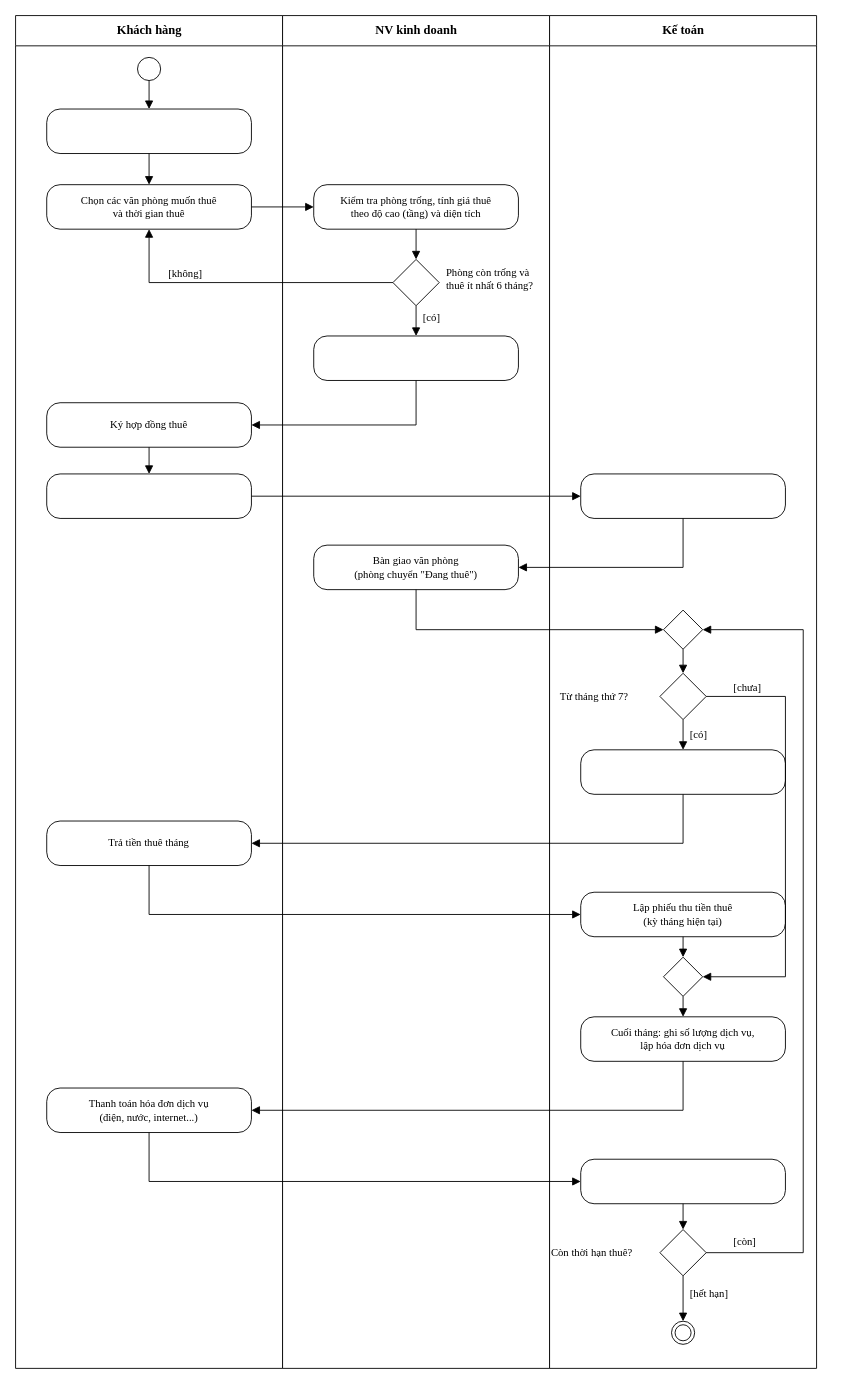
This 854x1384 diagram has some shape labels left out. Here are the shapes that lost their labels. From the top down, the centre of each, then its label:
At [148,131]: "Đến tòa nhà tham khảo vị trí, diện tích và giá phòng".
At [415,357]: "Lập hợp đồng thuê (một hoặc nhiều phòng, điều khoản thanh toán)".
At [148,495]: "Trả trước tiền thuê 6 tháng đầu".
At [682,495]: "Lập phiếu thu tiền thuê trả trước (kỳ 1 - 6)".
At [682,771]: "Đầu tháng: xác định kỳ đến hạn, tính tiền thuê của tháng".
At [682,1181]: "Ghi nhận hóa đơn đã thanh toán".
